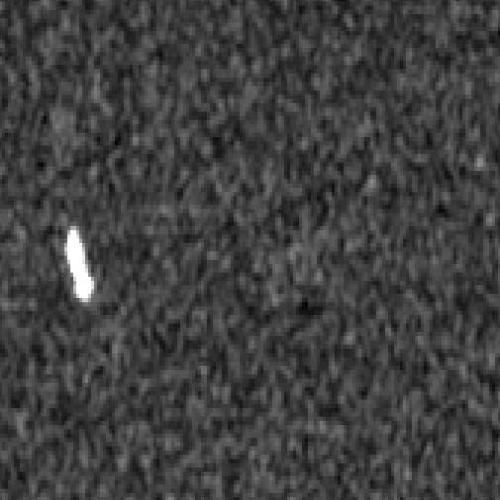ship: (64, 225, 96, 305)
